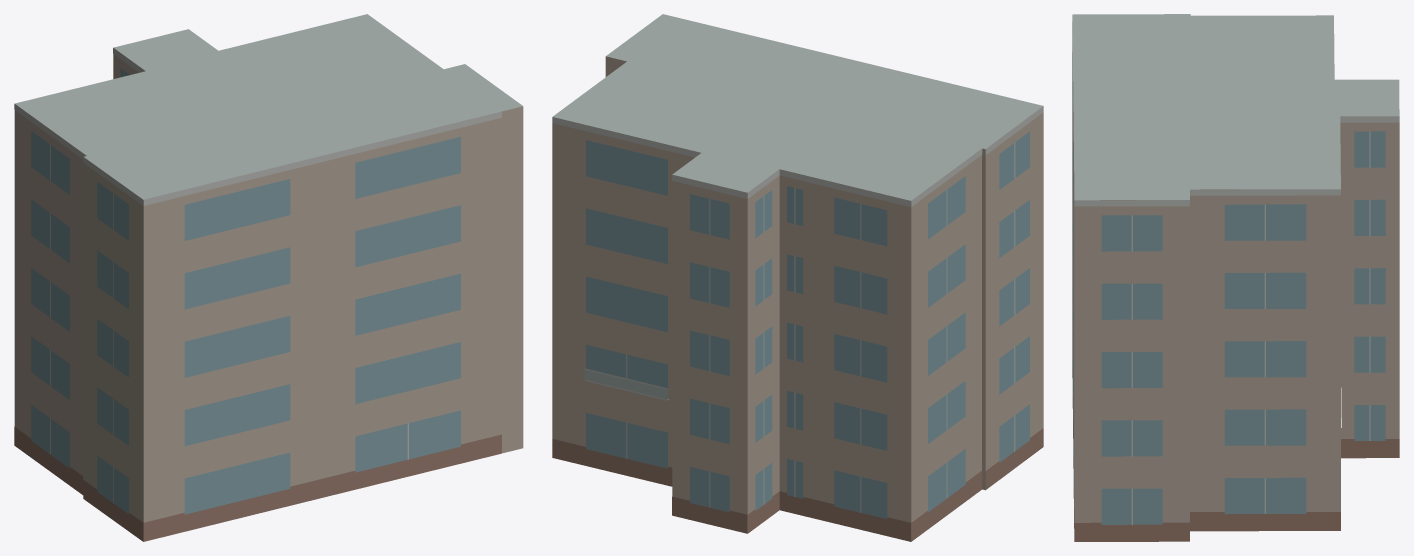
File: survey-upis-32756822.glb
3 renders of one model, left to right at view 1: azimuth 30°, elevation 25°; view 2: azimuth 150°, elevation 25°; view 3: azimuth 270°, elevation 25°, orthographic.
Visible parts, largest first — view 1: survey-upis-32756822.tmp; view 2: survey-upis-32756822.tmp; view 3: survey-upis-32756822.tmp.
Part boxes in pixels (bbox=[...]): survey-upis-32756822.tmp: bbox=[14, 14, 523, 541]; survey-upis-32756822.tmp: bbox=[552, 14, 1043, 541]; survey-upis-32756822.tmp: bbox=[1072, 14, 1399, 541].
Bounding box in the file's own units: 15.67 × 13.4 × 11.64.
